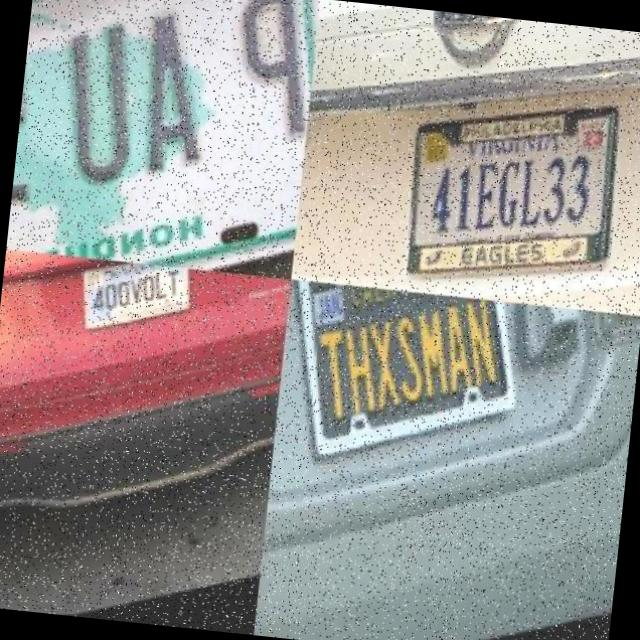LicensePlate: (5, 0, 320, 279), (272, 280, 550, 490), (411, 113, 622, 278), (88, 264, 195, 337)
